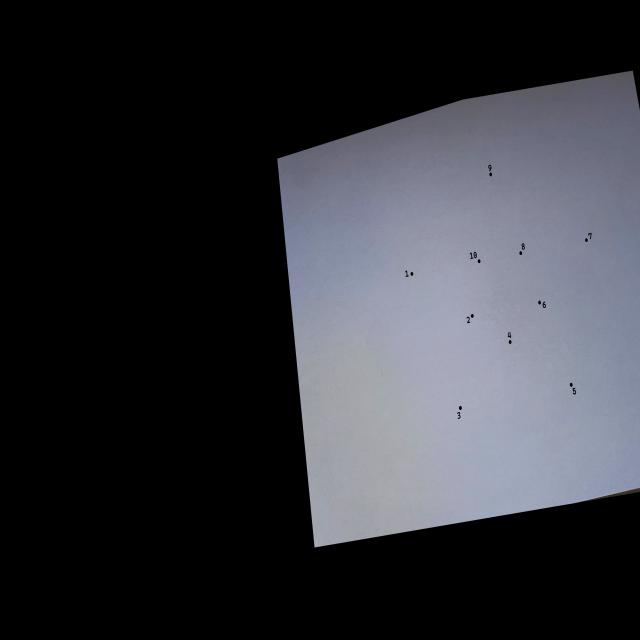Dot: (477, 259, 481, 263), (410, 272, 414, 276), (470, 314, 474, 318), (508, 340, 512, 344), (538, 300, 541, 305), (570, 382, 573, 387), (489, 172, 492, 176), (519, 251, 522, 255), (585, 238, 588, 242), (459, 406, 462, 410)
DotNumber: (469, 252, 481, 264), (404, 270, 414, 278), (466, 314, 474, 324), (570, 382, 576, 395), (519, 243, 525, 255), (457, 406, 462, 419), (538, 300, 546, 308), (585, 233, 592, 242), (488, 164, 492, 177), (508, 332, 512, 344)
Number: (470, 252, 477, 260), (466, 316, 471, 323), (588, 232, 592, 240), (572, 387, 576, 395), (405, 270, 409, 277), (542, 301, 546, 308), (521, 243, 525, 250), (457, 412, 461, 419), (488, 165, 492, 171), (508, 332, 512, 338)
